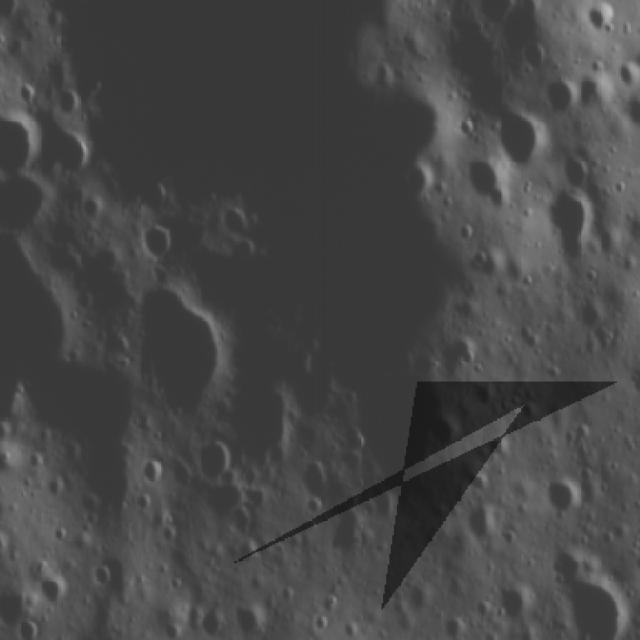crater: (120, 284, 235, 418), (546, 540, 640, 640), (542, 192, 603, 262), (491, 116, 555, 164), (0, 111, 43, 172), (462, 498, 500, 550), (464, 162, 508, 205), (494, 580, 534, 626), (136, 222, 179, 264), (55, 129, 97, 171), (423, 414, 466, 455), (232, 601, 275, 640), (34, 572, 72, 616), (542, 478, 588, 514), (199, 446, 236, 488), (607, 51, 640, 93), (468, 381, 502, 421), (466, 243, 500, 283), (541, 80, 577, 114), (451, 336, 480, 375), (483, 432, 517, 465), (89, 246, 117, 285), (54, 85, 88, 117), (516, 42, 556, 69), (212, 205, 254, 230), (368, 488, 403, 518), (303, 458, 328, 499), (576, 301, 606, 334), (564, 158, 593, 192), (588, 0, 614, 37), (433, 614, 469, 640), (198, 606, 227, 637), (371, 60, 397, 94), (480, 0, 518, 23), (235, 537, 262, 568), (227, 241, 264, 262), (142, 455, 164, 487), (86, 565, 115, 589), (405, 589, 432, 613), (347, 430, 371, 456), (12, 620, 42, 640), (618, 248, 638, 278), (569, 422, 593, 446), (0, 0, 22, 26), (0, 529, 15, 567), (624, 93, 640, 127), (81, 196, 104, 219), (134, 492, 155, 516), (342, 385, 363, 409), (611, 177, 632, 200), (0, 448, 15, 479), (45, 478, 67, 498), (278, 584, 300, 604), (52, 525, 72, 546), (158, 525, 178, 546), (312, 615, 331, 637), (629, 360, 640, 395), (344, 621, 364, 640), (18, 85, 38, 104), (44, 15, 67, 30), (28, 452, 47, 470), (168, 575, 187, 591), (42, 0, 64, 3)
